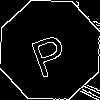P: (25, 25, 72, 79)
